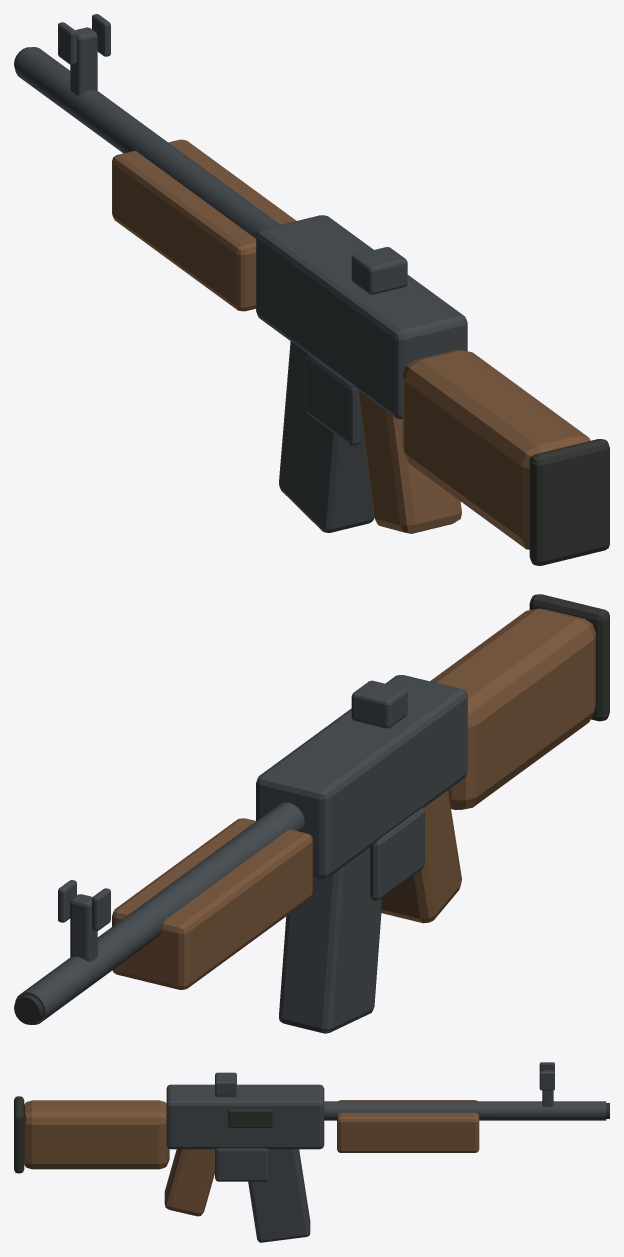
Rendered from noir-rifle.glb.
3 renders of one model, top to bottom at view 1: azimuth 30°, elevation 25°; view 2: azimuth 150°, elevation 25°; view 3: azimuth 270°, elevation 25°, orthographic. The views are drawn at different scales.
Parts seen in each view (by area): view 1: weapon-walnut.001, weapon-blued-steel.003, weapon-blued-steel.004, weapon-grip.002; view 2: weapon-walnut.001, weapon-blued-steel.003, weapon-blued-steel.004, weapon-grip.002; view 3: weapon-walnut.001, weapon-blued-steel.003, weapon-blued-steel.004, weapon-grip.002.
Boxes of the visible parts, bbox=[...] form: weapon-walnut.001: bbox=[112, 139, 590, 549]; weapon-blued-steel.003: bbox=[15, 14, 467, 445]; weapon-blued-steel.004: bbox=[279, 341, 374, 532]; weapon-grip.002: bbox=[14, 47, 609, 565]; weapon-walnut.001: bbox=[112, 608, 595, 989]; weapon-blued-steel.003: bbox=[15, 675, 467, 1024]; weapon-blued-steel.004: bbox=[279, 847, 382, 1033]; weapon-grip.002: bbox=[14, 594, 609, 1024]; weapon-walnut.001: bbox=[24, 1100, 479, 1216]; weapon-blued-steel.003: bbox=[166, 1062, 606, 1181]; weapon-blued-steel.004: bbox=[248, 1149, 310, 1242]; weapon-grip.002: bbox=[14, 1096, 609, 1173].
Size of the model in its own units: 0.099 by 0.3693 by 1.17.
